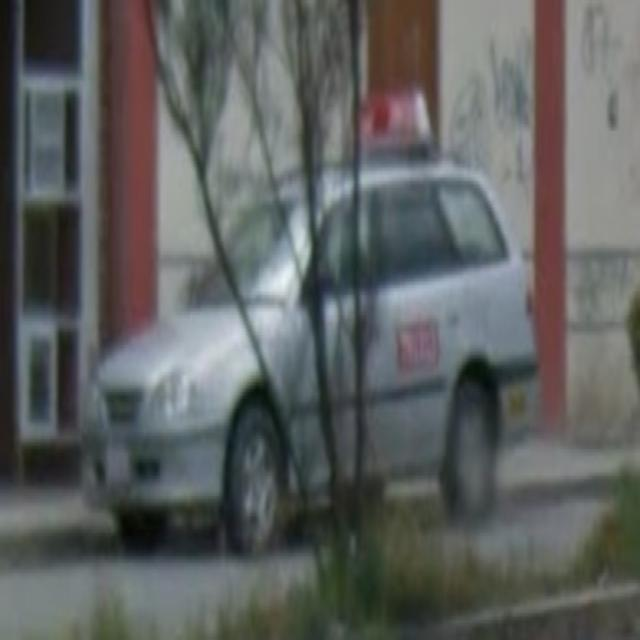cars: (85, 138, 543, 560)
